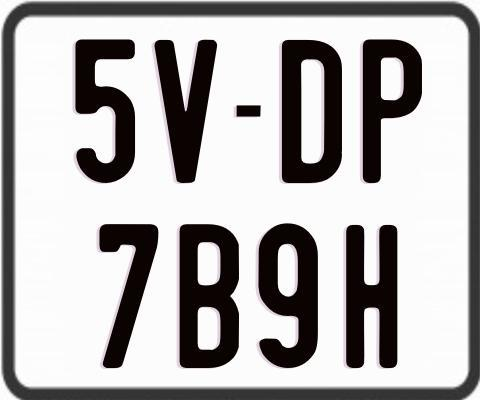5: (73, 39, 138, 183)
7: (97, 223, 161, 373)
9: (256, 223, 319, 373)
B: (177, 223, 240, 368)
D: (281, 39, 344, 185)
H: (346, 224, 402, 373)
P: (361, 38, 426, 183)
V: (151, 38, 214, 184)
